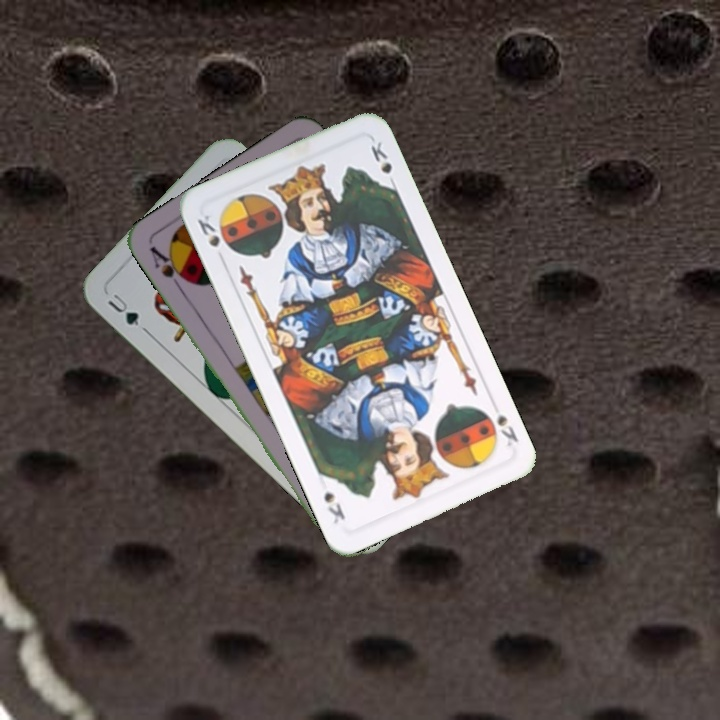GU: (103, 289, 142, 329)
SA: (145, 242, 192, 294)
SK: (193, 210, 223, 250), (493, 410, 521, 450)
